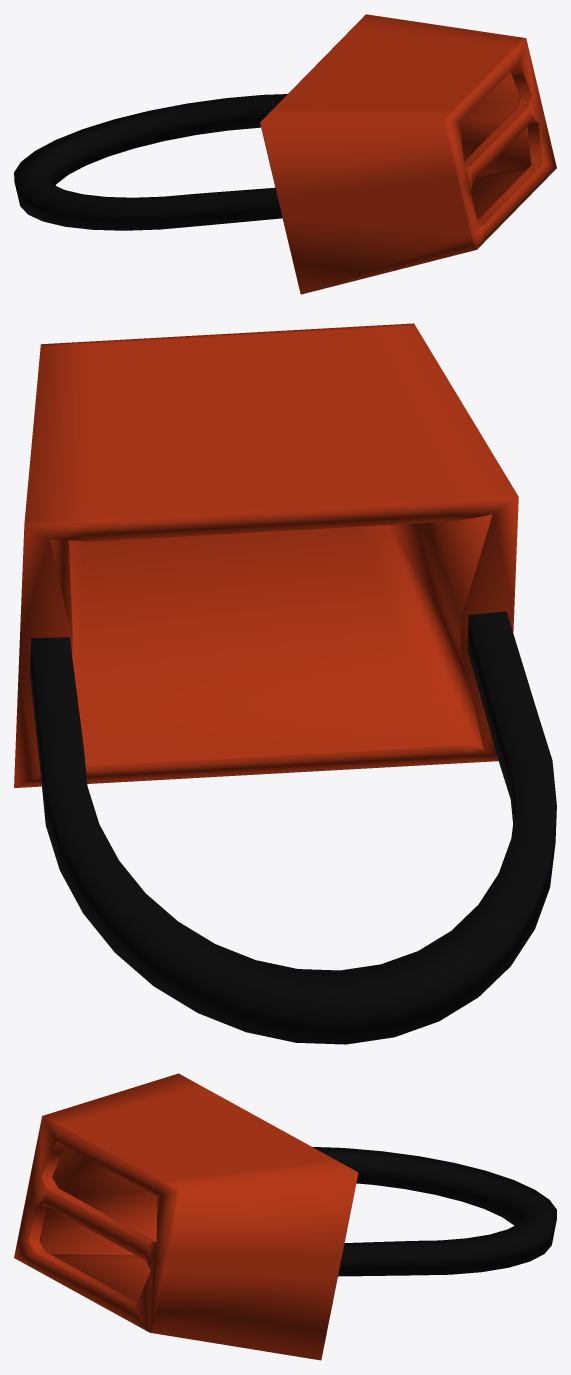
Rendered from belay_devicev3.FBX.
3 renders of one model, top to bottom at view 1: azimuth 30°, elevation 25°; view 2: azimuth 150°, elevation 25°; view 3: azimuth 270°, elevation 25°, orthographic. The views are drawn at different scales.
Parts seen in each view (by area): view 1: belaydevicev3; view 2: belaydevicev3; view 3: belaydevicev3.
Part boxes in pixels (box(x1,y1,x2,y2)): belaydevicev3: box(14, 14, 556, 294); belaydevicev3: box(14, 323, 556, 1044); belaydevicev3: box(14, 1073, 556, 1360).
Bounding box in the file's own units: 22.96 × 10.43 × 25.78.
